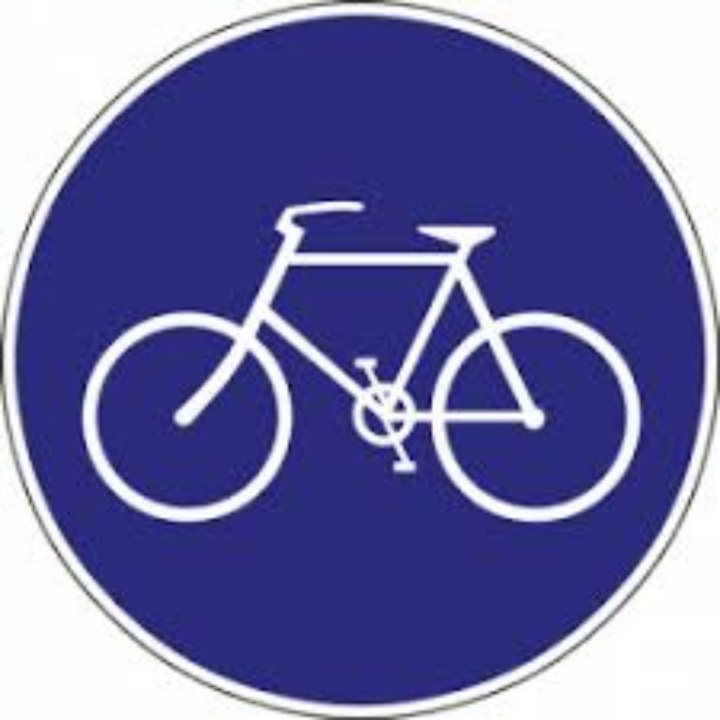bicycle: (73, 200, 642, 522)
